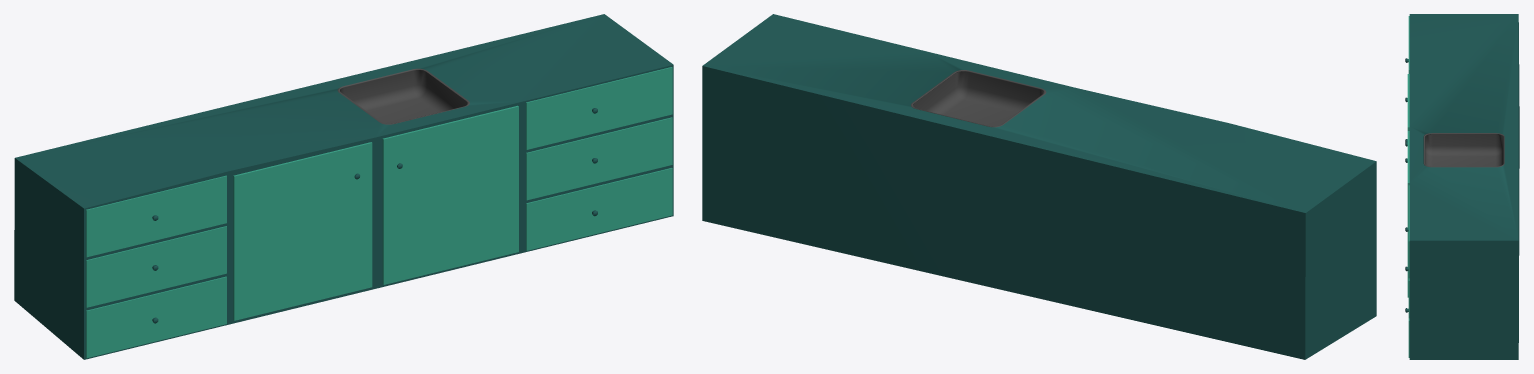
File: Encimera.fbx
The picture shows the model from 3 angles, left to right: view 1: azimuth 30°, elevation 25°; view 2: azimuth 150°, elevation 25°; view 3: azimuth 270°, elevation 25°; orthographic projection. The views are drawn at different scales.
Parts seen in each view (by area): view 1: Encimera; view 2: Encimera; view 3: Encimera.
Part boxes in pixels (<box>): Encimera: <box>14,14,673,359</box>; Encimera: <box>702,14,1376,359</box>; Encimera: <box>1405,14,1519,359</box>.
Bounding box in the file's own units: 289 × 71.84 × 61.59.
